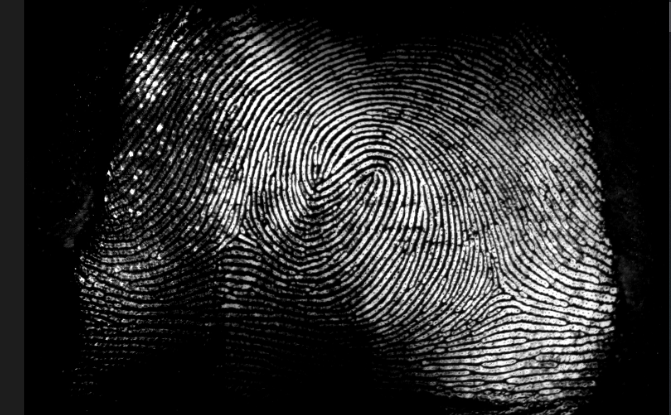deltas: (473, 257, 531, 321), (212, 207, 268, 257)
nucleo: (309, 140, 404, 224)
